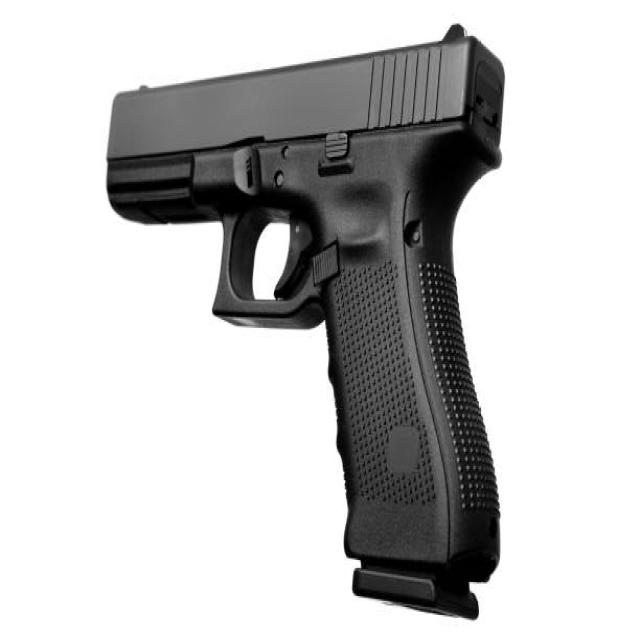pistol: (98, 15, 514, 629)
